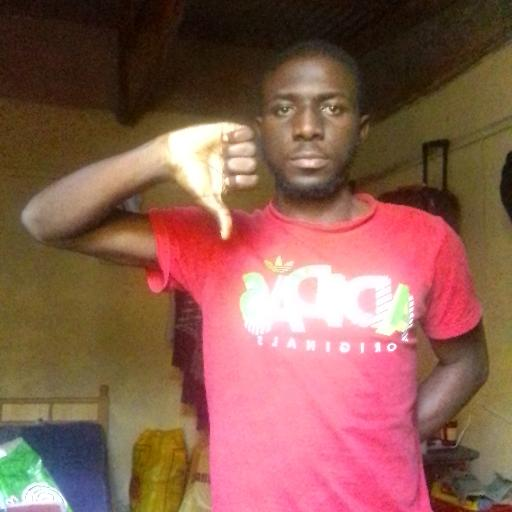dislike: (165, 120, 260, 242)
